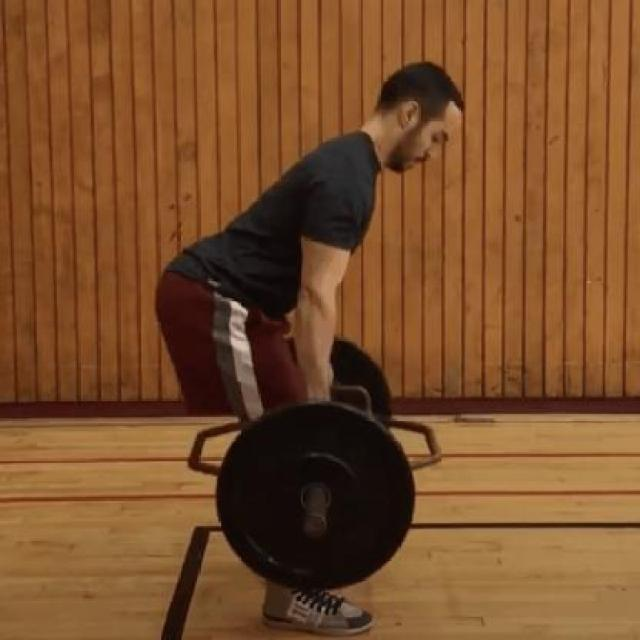barbell: (216, 395, 419, 596)
